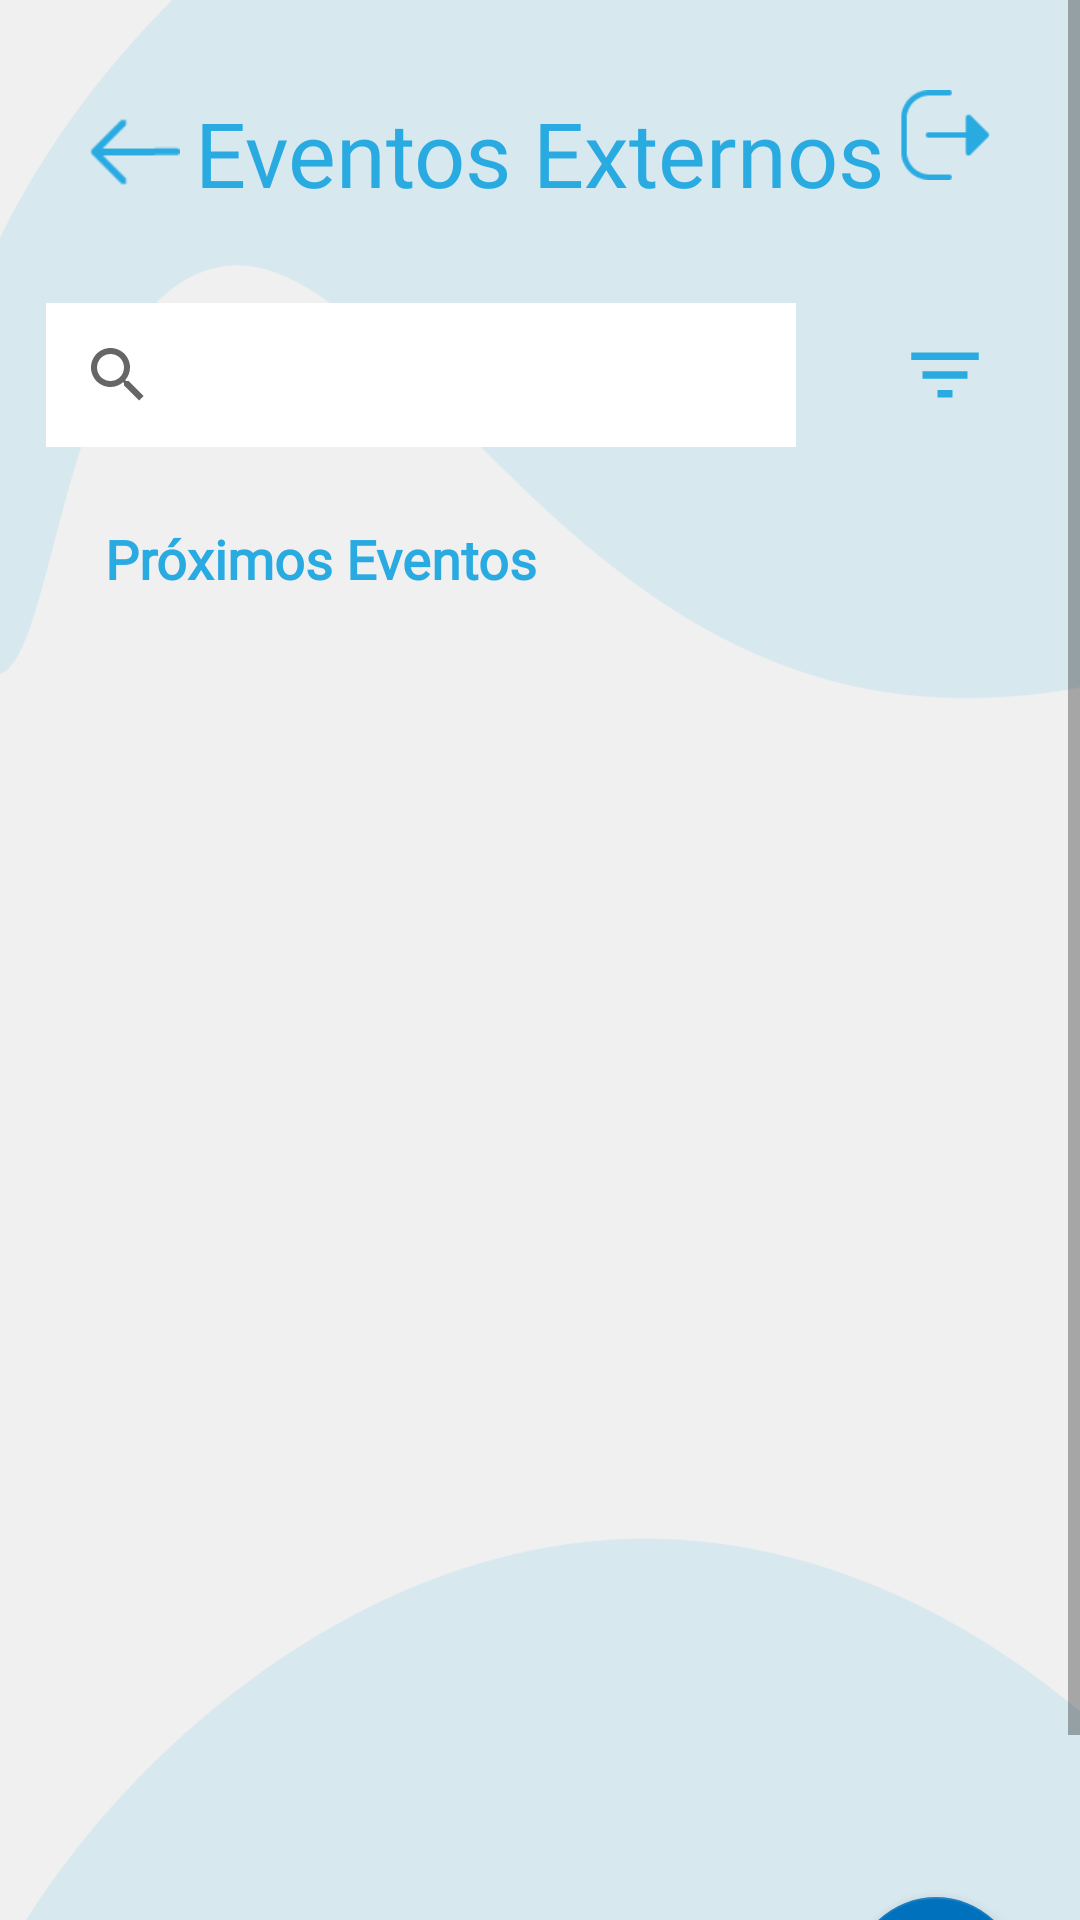

Icons on this 1080*1920 Android screen, each with the point to tap as (x,y):
filter: (945,375)
